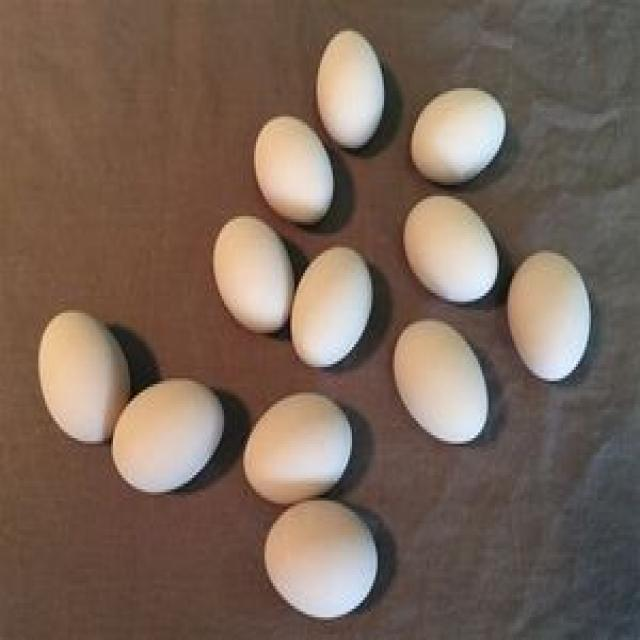Egg: (257, 490, 387, 632), (385, 303, 508, 446), (502, 244, 607, 390), (246, 386, 362, 515), (38, 301, 138, 449), (404, 70, 520, 192), (282, 239, 381, 371), (203, 211, 304, 335), (310, 21, 394, 148)
